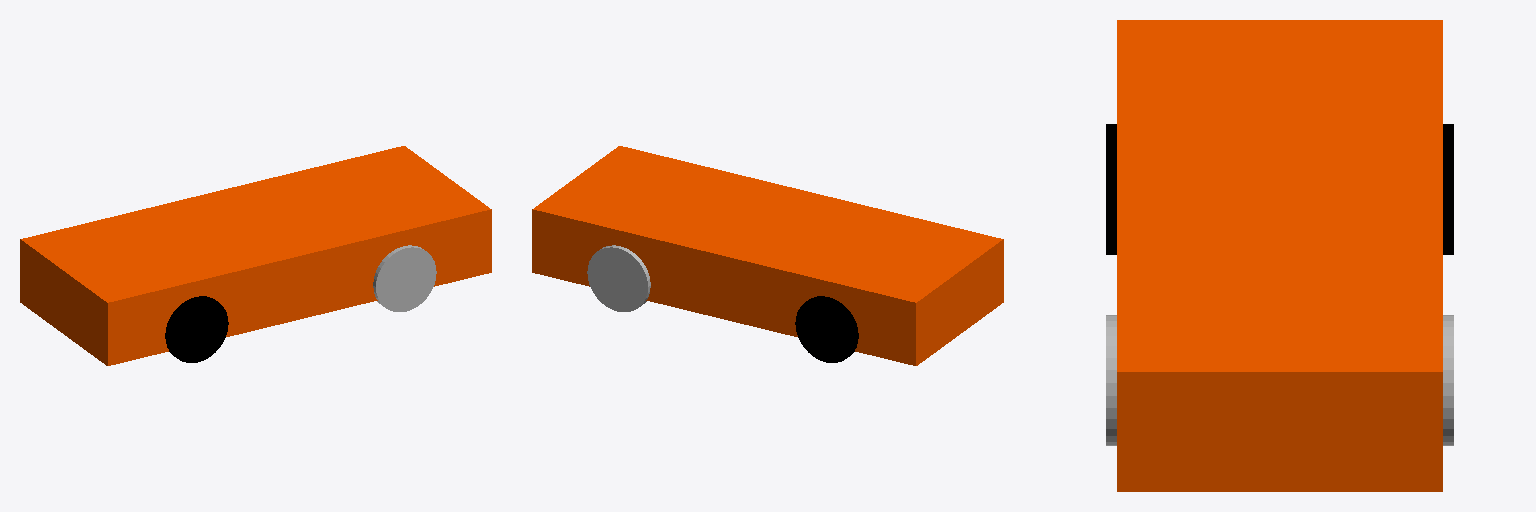
URDF robot description (mbot):
<?xml version="1.0" ?>
<!-- =================================================================================== -->
<!-- |    This document was autogenerated by xacro from mbot.xacro                     | -->
<!-- |    EDITING THIS FILE BY HAND IS NOT RECOMMENDED                                 | -->
<!-- =================================================================================== -->
<robot name="mbot">
  <!-- Defining the colors used in this robot -->
  <material name="yellow">
    <color rgba="1 0.4 0 1"/>
  </material>
  <material name="black">
    <color rgba="0 0 0 0.95"/>
  </material>
  <material name="gray">
    <color rgba="0.75 0.75 0.75 1"/>
  </material>
  <link name="base_footprint">
    <visual>
      <origin rpy="0 0 0" xyz="0 0 0"/>
      <geometry>
        <box size="0.001 0.001 0.001"/>
      </geometry>
    </visual>
  </link>
  <joint name="base_footprint_joint" type="fixed">
    <origin rpy="0 0 0" xyz="0 0 0.5249999999999999"/>
    <parent link="base_footprint"/>
    <child link="base_link"/>
  </joint>
  <link name="base_link">
    <visual>
      <origin rpy="0 0 0" xyz=" 0 0 0"/>
      <geometry>
        <box size="4.43 1.74 0.7"/>
      </geometry>
      <material name="yellow"/>
    </visual>
  </link>
  <joint name="base_l_wheel_joint" type="continuous">
    <origin rpy="0 0 0" xyz="1.2 -0.87 -0.17"/>
    <parent link="base_link"/>
    <child link="base_l_wheel_link"/>
    <axis xyz="0 1 0"/>
  </joint>
  <link name="base_l_wheel_link">
    <visual>
      <origin rpy="1.5707963 0 0" xyz="0 0 0"/>
      <geometry>
        <cylinder length="0.11" radius="0.35"/>
      </geometry>
      <material name="gray"/>
    </visual>
  </link>
  <joint name="base_r_wheel_joint" type="continuous">
    <origin rpy="0 0 0" xyz="1.2 0.87 -0.17"/>
    <parent link="base_link"/>
    <child link="base_r_wheel_link"/>
    <axis xyz="0 1 0"/>
  </joint>
  <link name="base_r_wheel_link">
    <visual>
      <origin rpy="1.5707963 0 0" xyz="0 0 0"/>
      <geometry>
        <cylinder length="0.11" radius="0.35"/>
      </geometry>
      <material name="gray"/>
    </visual>
  </link>
  <joint name="left_caster_joint" type="continuous">
    <origin rpy="0 0 0" xyz="-1.2 0.87 -0.17"/>
    <parent link="base_link"/>
    <child link="left_caster_link"/>
    <axis xyz="0 1 0"/>
  </joint>
  <link name="left_caster_link">
    <visual>
      <origin rpy="1.5707963 0 0" xyz="0 0 0"/>
      <geometry>
        <cylinder length="0.11" radius="0.35"/>
      </geometry>
      <material name="black"/>
    </visual>
  </link>
  <joint name="right_caster_joint" type="continuous">
    <origin rpy="0 0 0" xyz="-1.2 -0.87 -0.17"/>
    <parent link="base_link"/>
    <child link="right_caster_link"/>
    <axis xyz="0 1 0"/>
  </joint>
  <link name="right_caster_link">
    <visual>
      <origin rpy="1.5707963 0 0" xyz="0 0 0"/>
      <geometry>
        <cylinder length="0.11" radius="0.35"/>
      </geometry>
      <material name="black"/>
    </visual>
  </link>
</robot>

--- Facts derived from the render (not from the file) ---
Views: 3 orthographic renders of the robot side by side, from view 1: azimuth 30°, elevation 25°; view 2: azimuth 150°, elevation 25°; view 3: azimuth 270°, elevation 25°.
Robot: mbot — 6 links, 5 joints (4 continuous, 1 fixed); root link base_footprint; default pose: every joint at zero.
Visible links, largest first — view 1: base_link, base_l_wheel_link, right_caster_link; view 2: base_link, base_r_wheel_link, left_caster_link; view 3: base_link, base_l_wheel_link, base_r_wheel_link, left_caster_link, right_caster_link.
Link boxes in pixels (x1,y1,x2,y2): base_link: (20, 146, 491, 365); base_l_wheel_link: (373, 245, 436, 311); right_caster_link: (165, 296, 228, 362); base_link: (532, 146, 1003, 365); base_r_wheel_link: (587, 245, 650, 311); left_caster_link: (795, 296, 858, 362); base_link: (1117, 20, 1442, 491); base_l_wheel_link: (1106, 315, 1116, 445); base_r_wheel_link: (1443, 315, 1453, 445); left_caster_link: (1443, 124, 1453, 254); right_caster_link: (1106, 124, 1116, 254).
Bounding box of the posed robot: 4.43 × 1.85 × 0.8755 m (x, y, z).
Geometry: primitives only (box / cylinder / sphere), no mesh files.